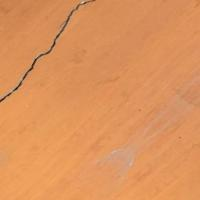crack: (0, 0, 103, 127)
